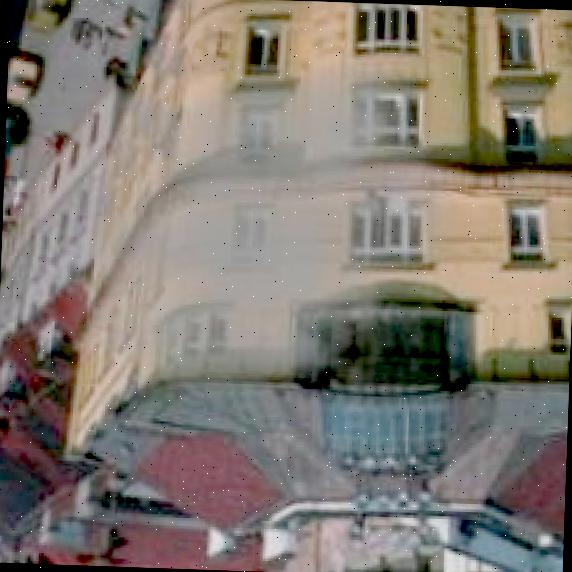smoke: (64, 48, 478, 409)
